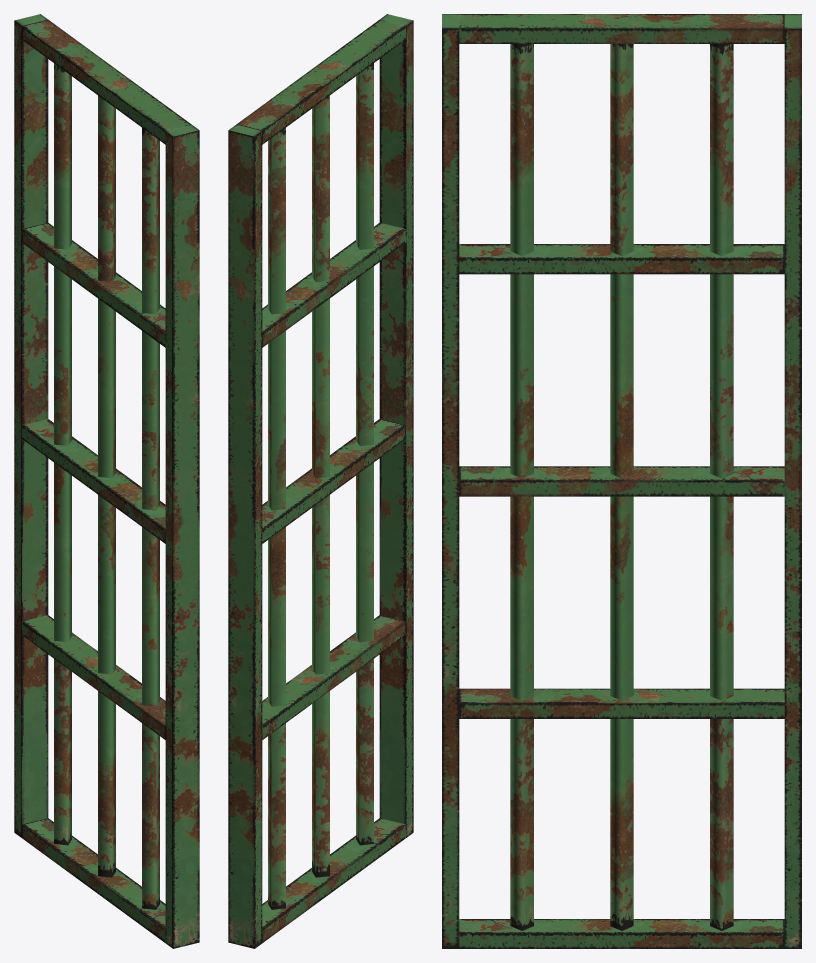
The model's file is metalBars01_1m.FBX.
3 views of the same model, side by side, from view 1: azimuth 30°, elevation 25°; view 2: azimuth 150°, elevation 25°; view 3: azimuth 270°, elevation 25° (orthographic). The views are drawn at different scales.
Parts seen in each view (by area): view 1: metalBars01_1m; view 2: metalBars01_1m; view 3: metalBars01_1m.
Part boxes in pixels (<box>): metalBars01_1m: <box>14,14,199,948</box>; metalBars01_1m: <box>228,14,413,948</box>; metalBars01_1m: <box>442,14,801,948</box>.
Size of the model in its own units: 10 by 295 by 105.
